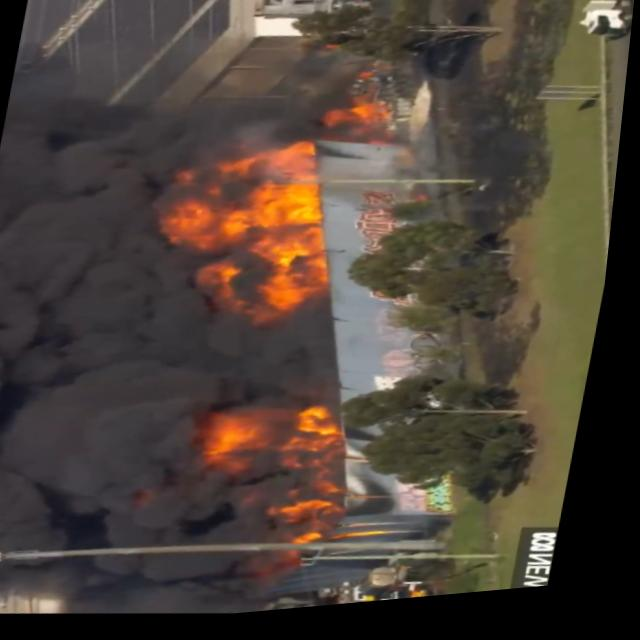Fire: (141, 130, 350, 342), (207, 398, 350, 485), (287, 501, 350, 565)
